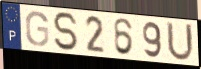2: (84, 15, 106, 55)
6: (112, 17, 134, 57)
9: (141, 20, 163, 60)
G: (24, 10, 51, 48)
S: (51, 11, 81, 53)
U: (165, 20, 195, 63)
